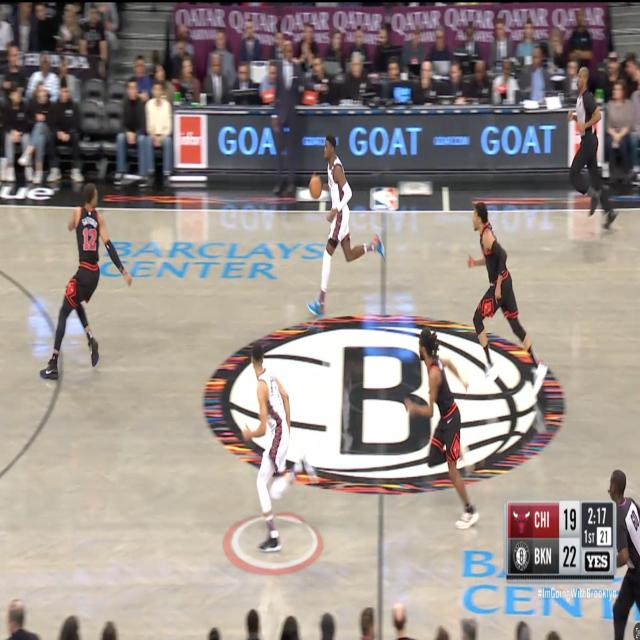no foul: (3, 151, 164, 385), (181, 328, 332, 566), (252, 124, 396, 314), (440, 172, 561, 395), (396, 320, 493, 539)
